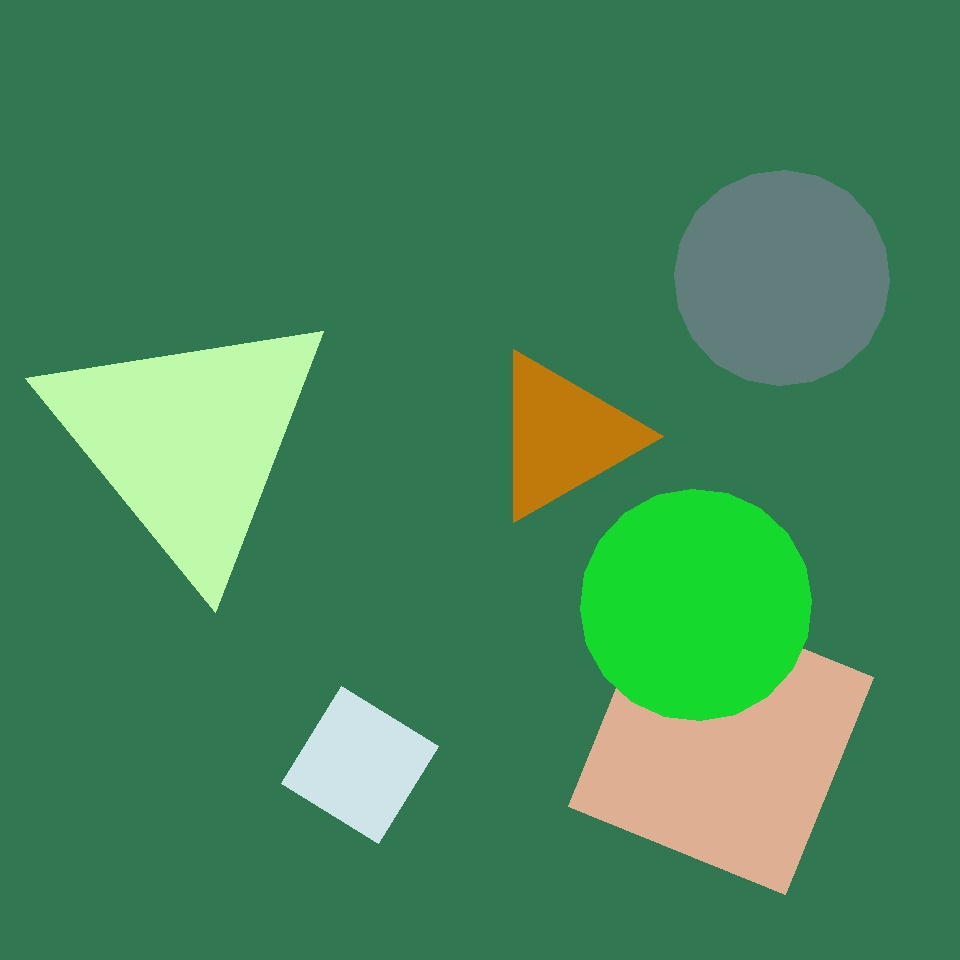circle: (39, 300, 337, 582), (488, 350, 638, 522), (770, 134, 916, 276)
square: (569, 590, 874, 894), (282, 686, 438, 844)
triangle: (580, 490, 812, 721), (674, 170, 890, 386), (635, 418, 794, 577)
